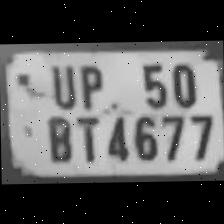0: (165, 58, 198, 108)
4: (100, 107, 128, 162)
5: (135, 58, 166, 108)
6: (129, 107, 160, 162)
7: (184, 108, 214, 160), (158, 109, 186, 163)
B: (42, 113, 73, 164)
P: (74, 60, 105, 110)
T: (74, 110, 102, 162)
U: (46, 58, 77, 108)
